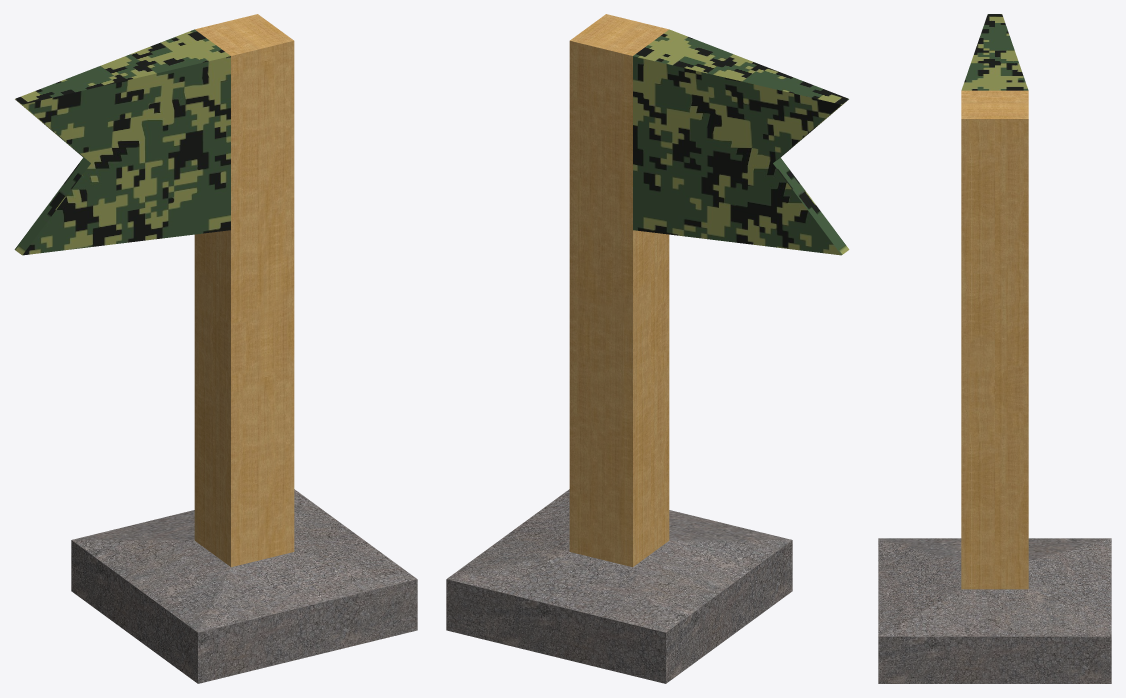
Rendered from flag.gltf.
3 renders of one model, left to right at view 1: azimuth 30°, elevation 25°; view 2: azimuth 150°, elevation 25°; view 3: azimuth 270°, elevation 25°, orthographic. The views are drawn at different scales.
Parts seen in each view (by area): view 1: Cube.003; view 2: Cube.003; view 3: Cube.003.
Part boxes in pixels (bbox=[...]): Cube.003: bbox=[14, 14, 417, 683]; Cube.003: bbox=[446, 14, 849, 683]; Cube.003: bbox=[878, 14, 1111, 683].
Size of the model in its own units: 1.11 by 1.82 by 0.7261.
3 materials, 3 textured.
